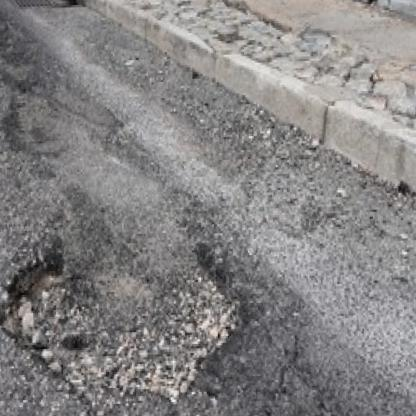pothole: (0, 209, 253, 410)
